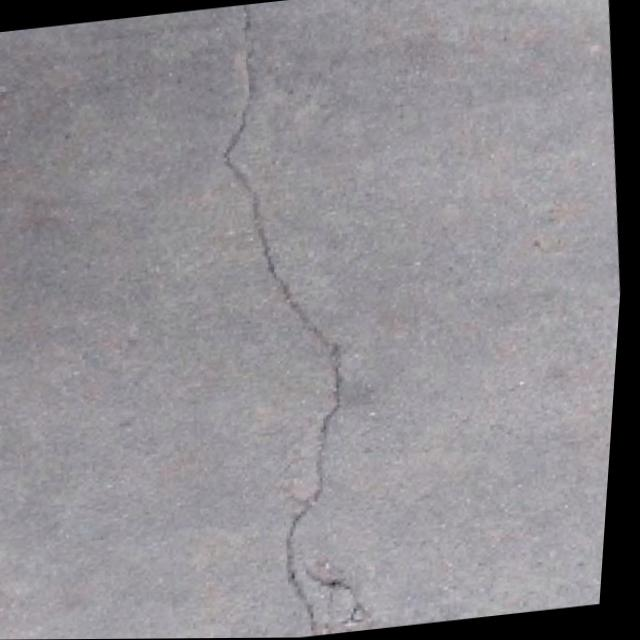Crack: (165, 0, 425, 639)
